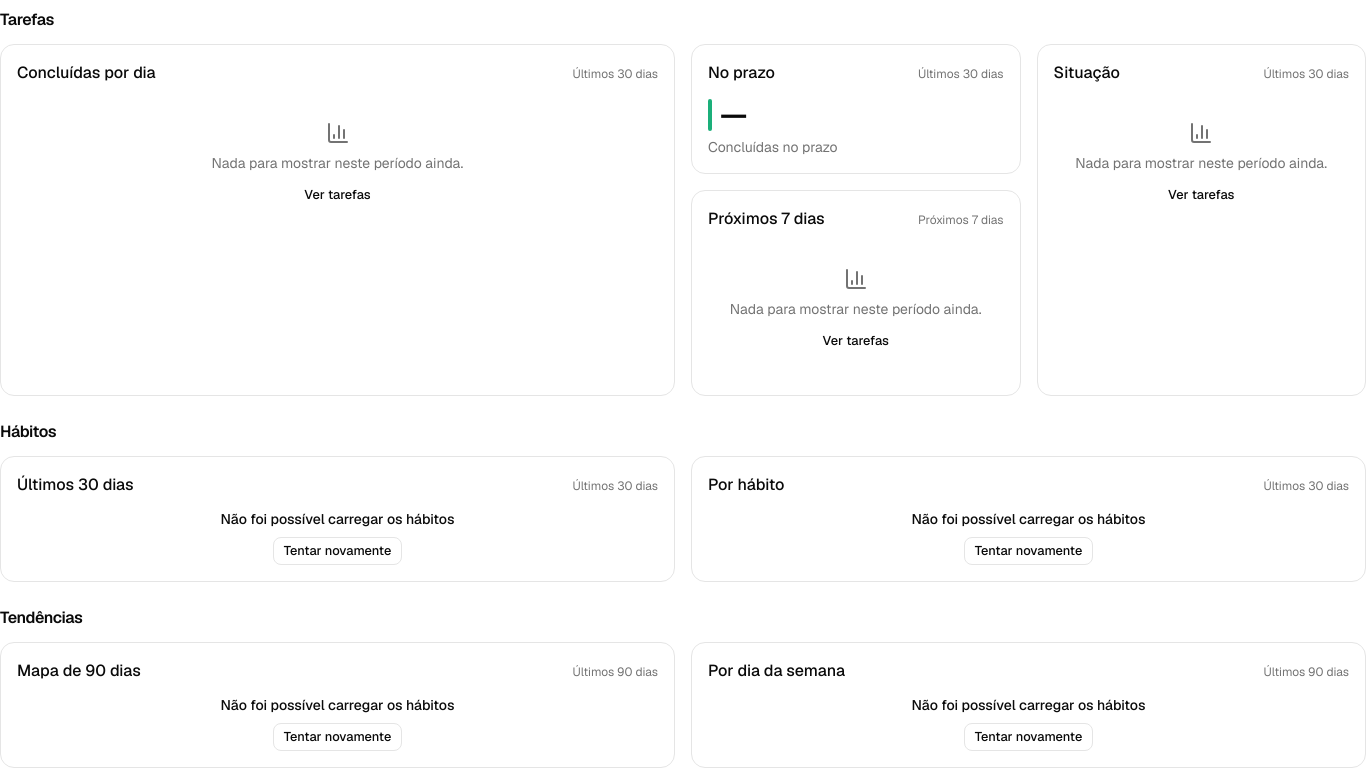
Test case: Dashboards › shows an error with a retry in the habit widgets when the history cannot be read
The image size is (1366, 768).
(page scrolled)
Expected: the message "Não foi possível carregar os hábitos Tentar novamente" below "Por hábito" is shown, [912, 510, 1145, 565]
Click the button "Tentar novamente" below "Por hábito" at [1028, 551], box [964, 537, 1093, 565]
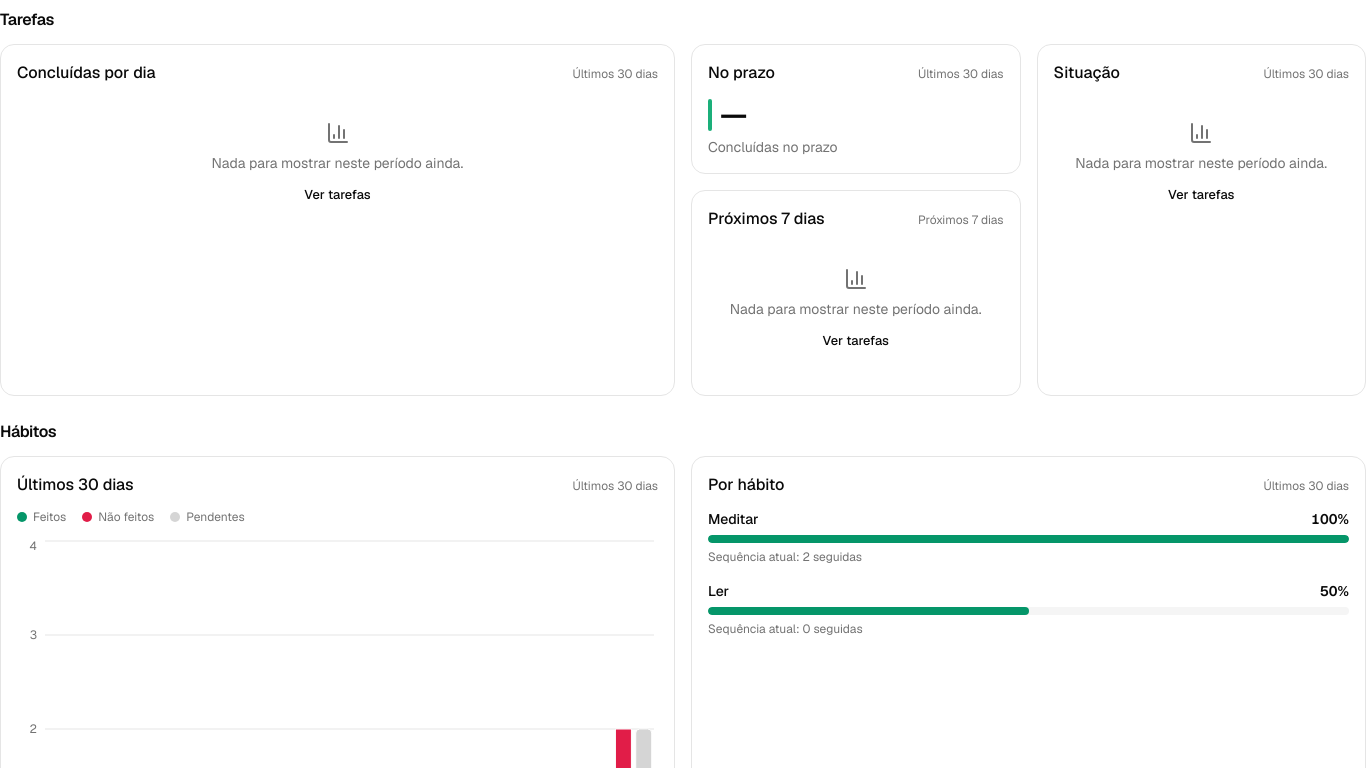
Expected: the list named "Por hábito" is shown, [708, 509, 1349, 637]
